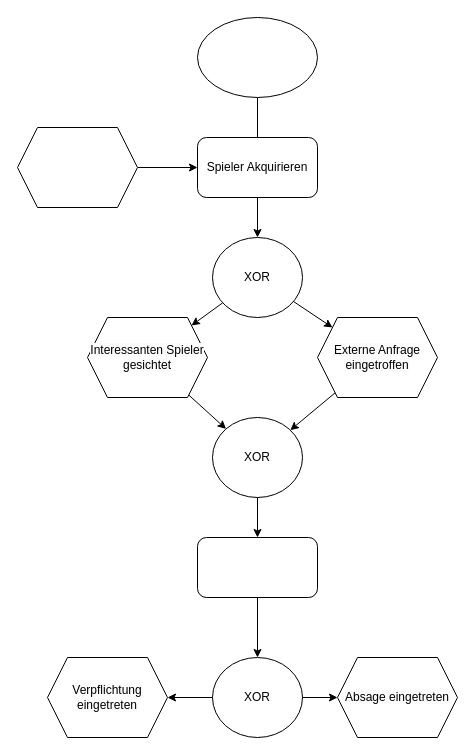
This 475x755 diagram has some shape labels left out. Each missing label, with the centre of its shape:
"Verhandlungen führen" belongs at point (257, 567).
"Vorsaison erfolglos verlaufen" belongs at point (77, 167).
"Vorstand" belongs at point (257, 57).
